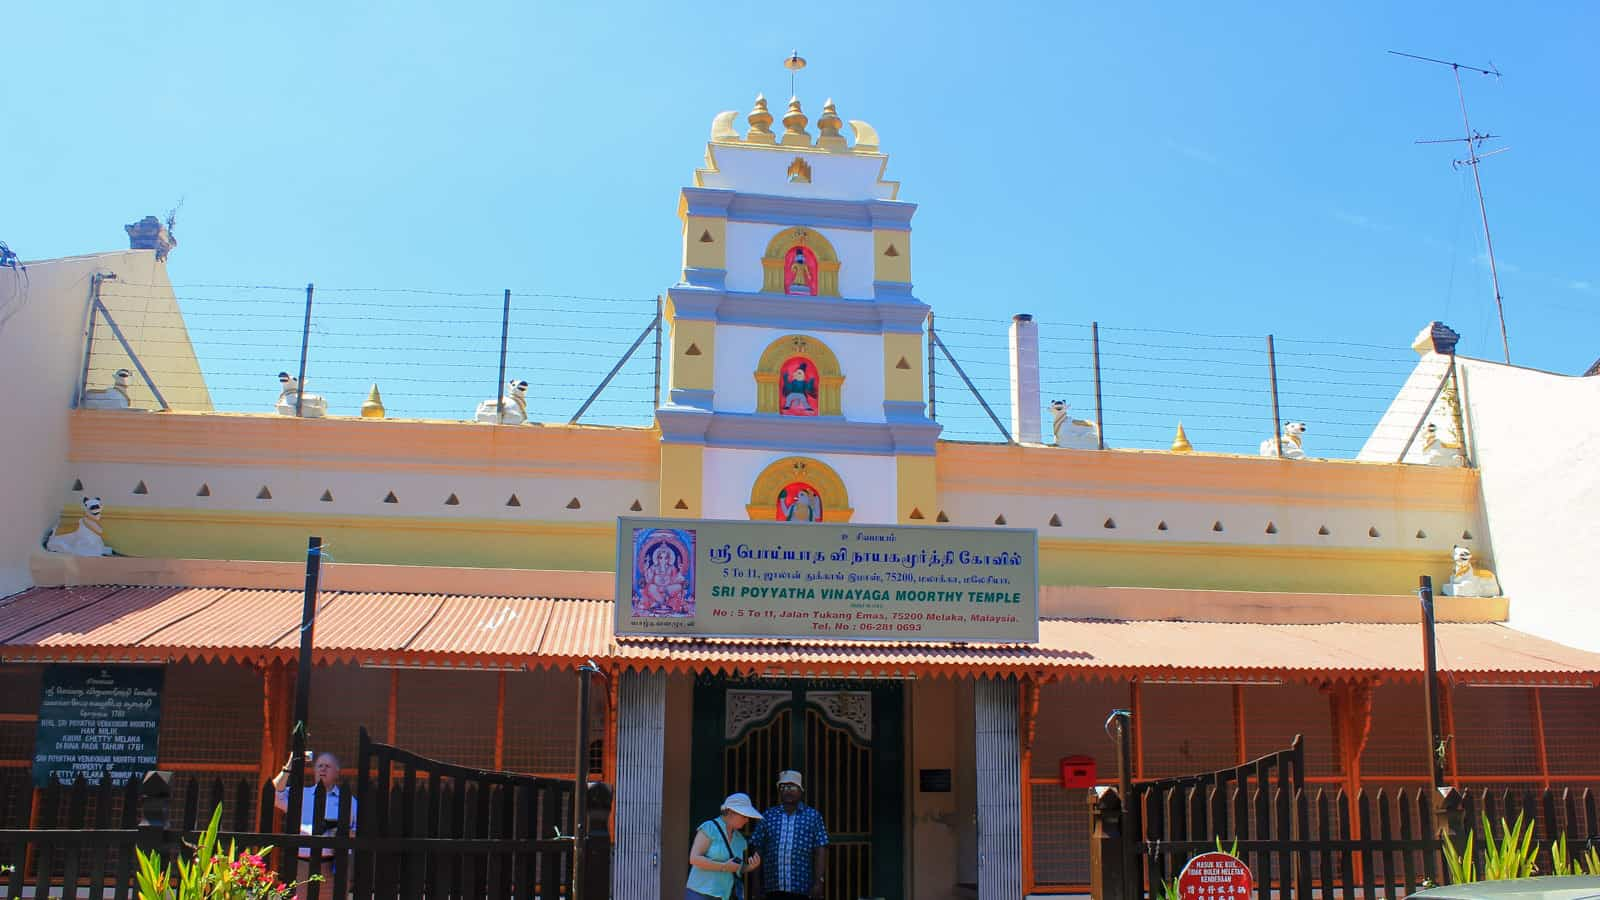Hindu Temple: (132, 105, 1410, 784)
